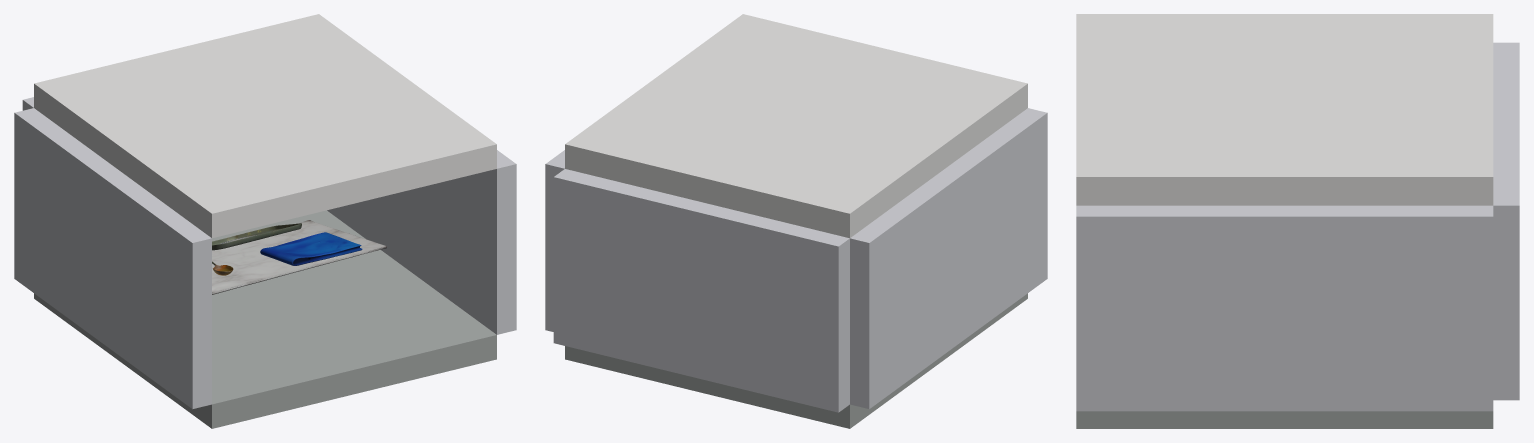
3 renders of one model, left to right at view 1: azimuth 30°, elevation 25°; view 2: azimuth 150°, elevation 25°; view 3: azimuth 270°, elevation 25°, orthographic. The views are drawn at different scales.
Parts seen in each view (by area): view 1: Ceiling, Wall_03, Floor, Wall_01, world.008, world.007, world.004; view 2: Ceiling, Wall_02, Wall_03, Floor, Wall_01; view 3: Wall_01, Ceiling, Wall_02, Floor.
Boxes of the visible parts, x1,y1,x2,y2 form: Ceiling: (34, 14, 496, 238); Wall_03: (14, 108, 211, 409); Floor: (34, 210, 496, 428); Wall_01: (327, 150, 516, 334); world.008: (212, 220, 386, 294); world.007: (260, 232, 362, 265); world.004: (212, 223, 301, 250); Ceiling: (565, 14, 1027, 238); Wall_02: (553, 169, 849, 412); Wall_03: (850, 108, 1047, 409); Floor: (565, 293, 1027, 428); Wall_01: (545, 150, 564, 331); Wall_01: (1076, 205, 1493, 411); Ceiling: (1076, 14, 1493, 205); Wall_02: (1493, 42, 1519, 400); Floor: (1076, 411, 1493, 428).
Size of the model in its own units: 4.15 by 2.63 by 4.2.
Materials: 13 (10 with a texture image).
